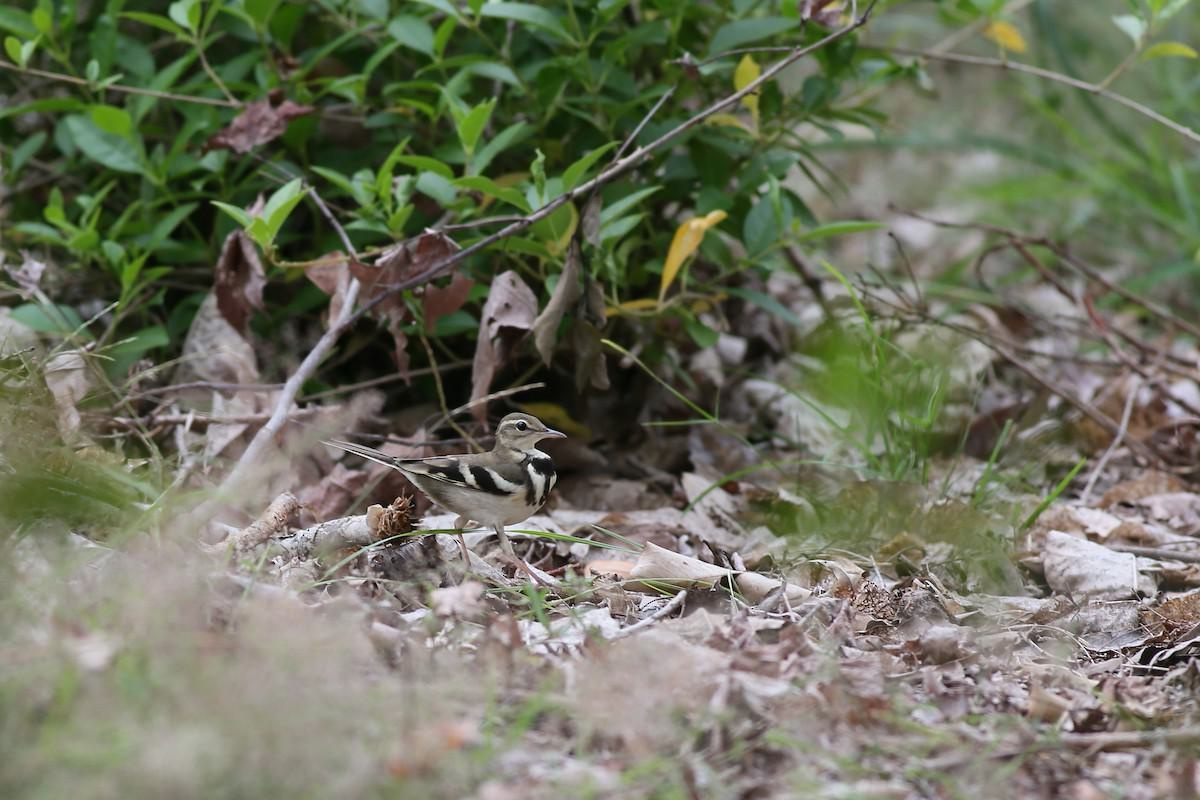wagtail: (365, 412, 573, 554)
